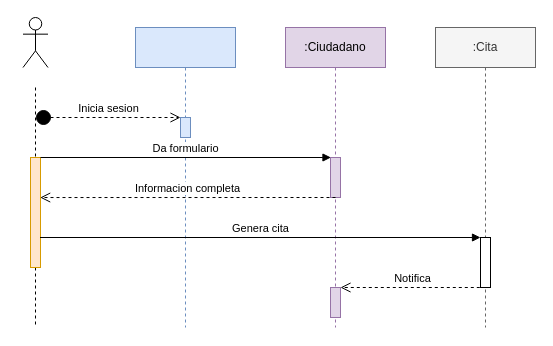
Some shapes in this 553 by 346 pixel diagram are drawn without their labels. The box of each missing label's shape, as (x1, y1, x2, y2) in pixels:
:Registro: (134, 26, 236, 328)
Gestor: (22, 16, 48, 68)
